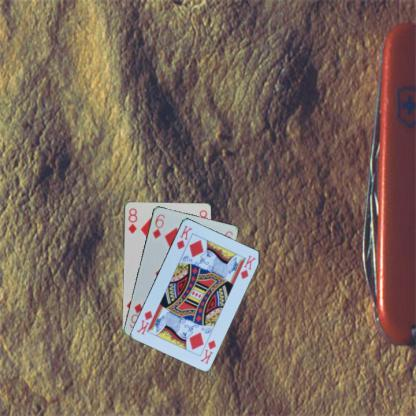6d: (150, 211, 166, 240)
8d: (125, 206, 138, 235)
Kd: (198, 337, 217, 365), (174, 223, 193, 250)
